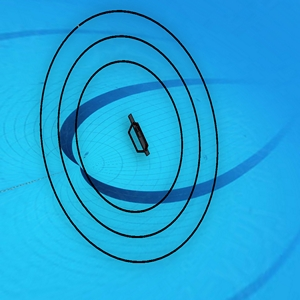circle: (35, 3, 235, 268)
submarine: (125, 112, 153, 157)
